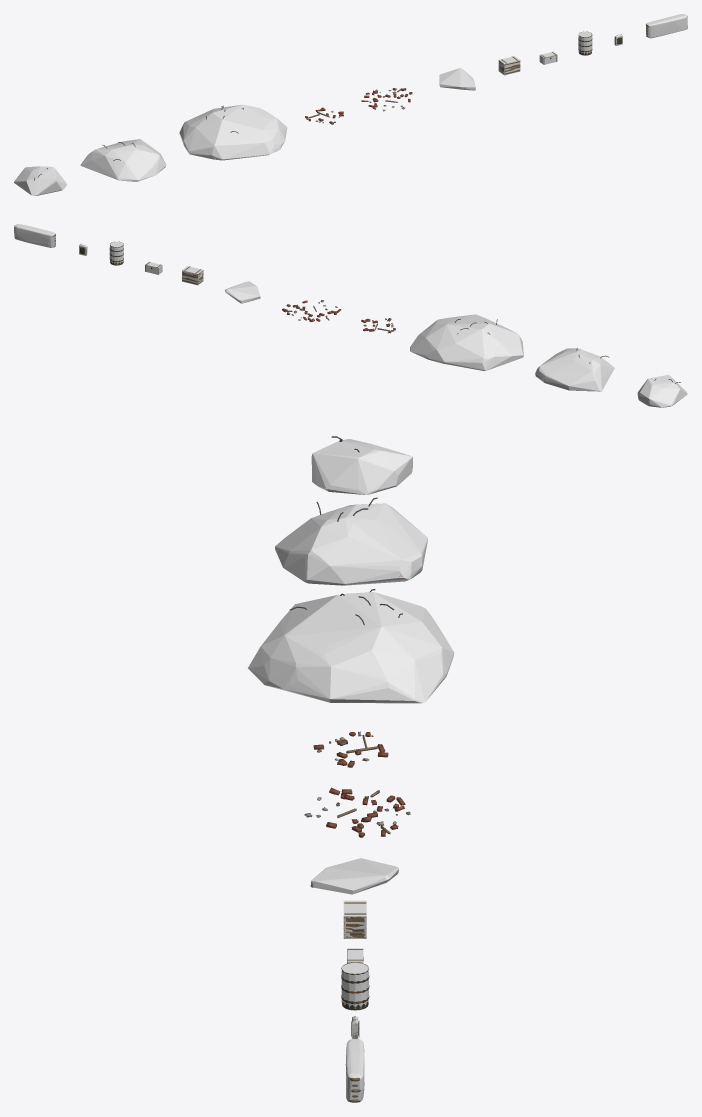
Rendered from props_4.glb.
3 renders of one model, top to bottom at view 1: azimuth 30°, elevation 25°; view 2: azimuth 150°, elevation 25°; view 3: azimuth 270°, elevation 25°, orthographic. The views are drawn at different scales.
Visible parts, largest first — view 1: COL_rubble_heap, COL_rubble_pile_b, COL_rubble_pile_a, COL_sandbag_wall, COL_beams_debris, debris_bricks_b, COL_crate_wood, COL_barrel_oil; view 2: COL_rubble_heap, COL_rubble_pile_b, COL_rubble_pile_a, COL_sandbag_wall, COL_beams_debris, debris_bricks_b, COL_crate_wood; view 3: COL_rubble_heap, COL_rubble_pile_b, COL_rubble_pile_a, COL_beams_debris, debris_bricks_b, COL_barrel_oil, COL_sandbag_wall.
Part boxes in pixels (x1,y1,x2,y2): COL_rubble_heap: (179,104,287,160); COL_rubble_pile_b: (80,139,166,181); COL_rubble_pile_a: (14,166,66,195); COL_sandbag_wall: (646,14,687,38); COL_beams_debris: (439,68,475,90); debris_bricks_b: (361,88,412,111); COL_crate_wood: (498,56,520,75); COL_barrel_oil: (578,31,592,55); COL_rubble_heap: (410,314,523,370); COL_rubble_pile_b: (535,348,614,391); COL_rubble_pile_a: (637,374,687,407); COL_sandbag_wall: (14,224,55,247); COL_beams_debris: (225,281,260,303); debris_bricks_b: (282,300,341,322); COL_crate_wood: (182,266,203,285); COL_rubble_heap: (248,592,454,703); COL_rubble_pile_b: (275,503,427,585); COL_rubble_pile_a: (311,439,412,494); COL_beams_debris: (310,858,398,894); debris_bricks_b: (304,787,410,837); COL_barrel_oil: (341,962,368,1010); COL_sandbag_wall: (345,1038,364,1102).
Size of the model in its own units: 33.32 by 1.41 by 4.48.
Materials: 9 (9 with a texture image).
